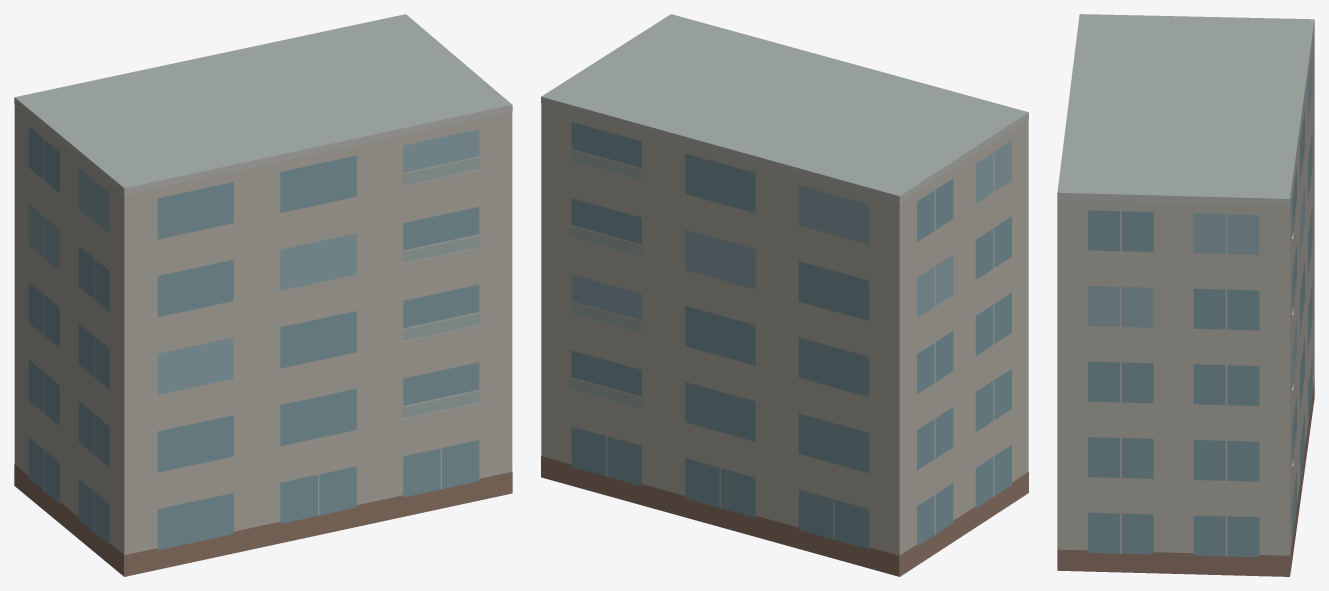
Rendered from survey-upis-32870363.glb.
3 views of the same model, side by side, from view 1: azimuth 30°, elevation 25°; view 2: azimuth 150°, elevation 25°; view 3: azimuth 270°, elevation 25° (orthographic). The views are drawn at different scales.
Visible parts, largest first — view 1: survey-upis-32870363.tmp; view 2: survey-upis-32870363.tmp; view 3: survey-upis-32870363.tmp.
Boxes of the visible parts, x1,y1,x2,y2 form: survey-upis-32870363.tmp: [14, 14, 512, 576]; survey-upis-32870363.tmp: [541, 14, 1028, 576]; survey-upis-32870363.tmp: [1057, 14, 1314, 576].
Size of the model in its own units: 14.33 by 13.65 by 8.43.
